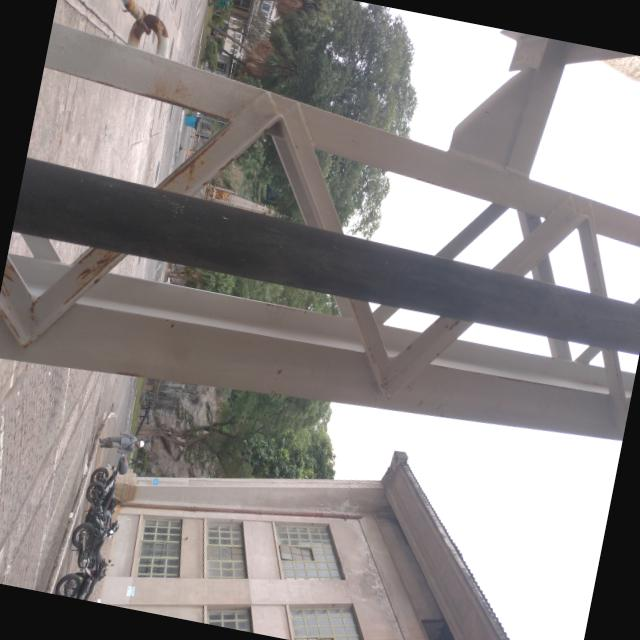gas: (11, 159, 640, 354)
